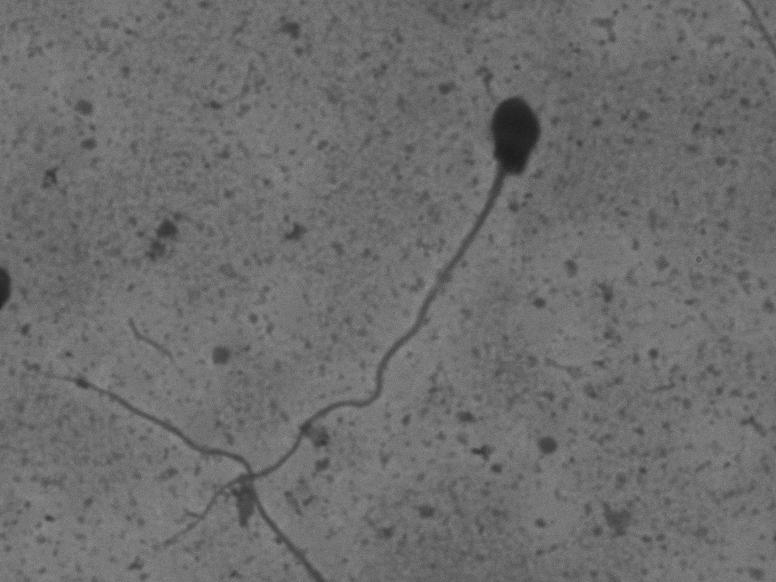Abnormal: (148, 70, 557, 557)
